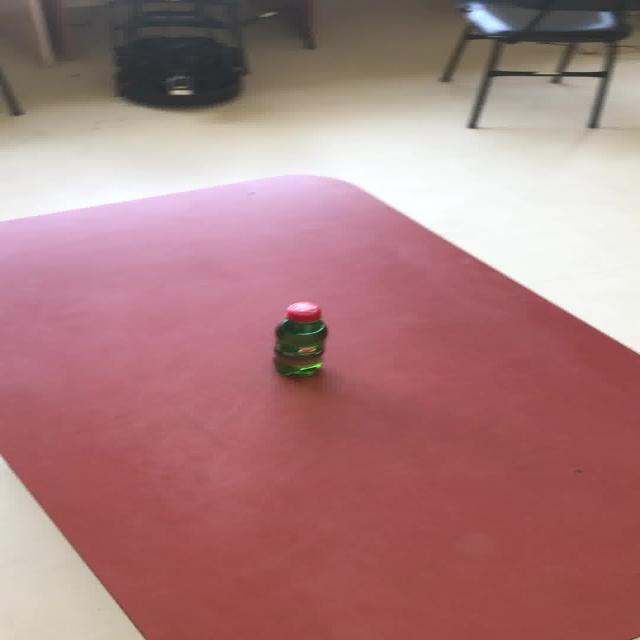guarana: (271, 300, 328, 378)
